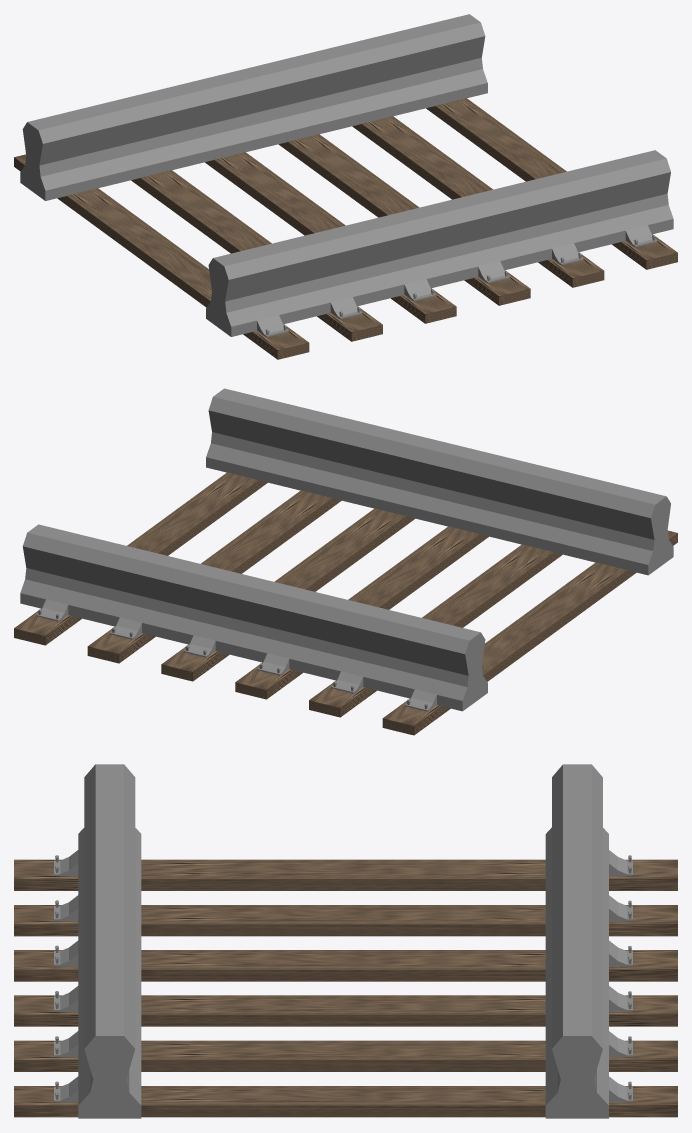
File: ShortRail.fbx
The picture shows the model from 3 angles, top to bottom: view 1: azimuth 30°, elevation 25°; view 2: azimuth 150°, elevation 25°; view 3: azimuth 270°, elevation 25°; orthographic projection. The views are drawn at different scales.
Visible parts, largest first — view 1: NailsHals.006; view 2: NailsHals.006; view 3: NailsHals.006.
Part boxes in pixels (box(x1,y1,x2,y2)): NailsHals.006: box(14, 14, 677, 359); NailsHals.006: box(14, 388, 677, 735); NailsHals.006: box(14, 764, 677, 1118).
Bounding box in the file's own units: 207 × 33.48 × 214.
2 materials, 1 textured.
